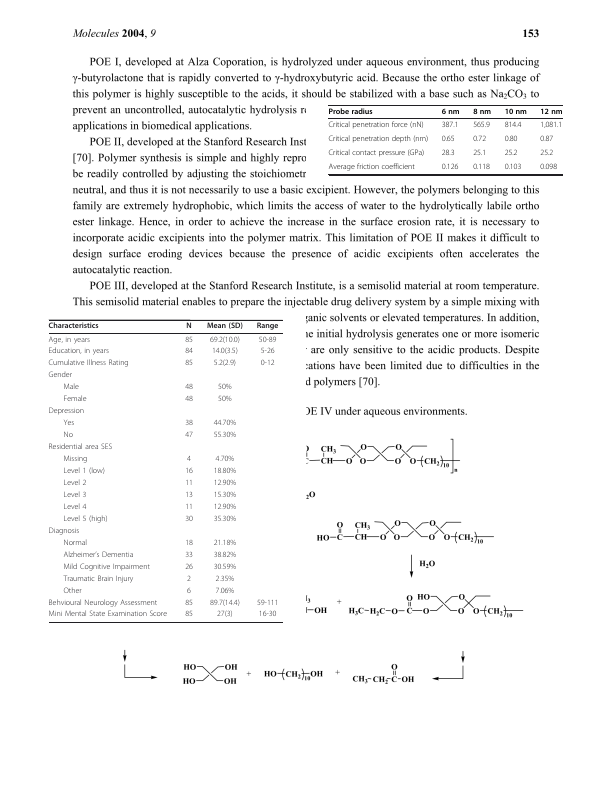borderless: (48, 318, 283, 622), (327, 104, 562, 174)
cell: (48, 610, 168, 620), (48, 598, 158, 608), (328, 135, 429, 144), (62, 562, 151, 572), (328, 149, 425, 158), (328, 121, 424, 130), (48, 359, 130, 369), (328, 163, 416, 172), (62, 550, 134, 560), (62, 574, 134, 584), (48, 347, 110, 357), (48, 443, 113, 452), (48, 322, 99, 331), (48, 335, 91, 345), (62, 515, 109, 524), (62, 467, 106, 476), (328, 108, 374, 116), (206, 322, 244, 331), (48, 407, 85, 416), (209, 335, 241, 345), (209, 598, 241, 608), (48, 527, 80, 536), (211, 347, 239, 357), (62, 538, 88, 548), (48, 371, 73, 381), (213, 359, 237, 369), (213, 538, 237, 548), (213, 550, 237, 560), (213, 562, 237, 572), (62, 455, 88, 464), (256, 598, 279, 608), (62, 395, 87, 404), (62, 479, 87, 488), (62, 491, 87, 500), (62, 503, 87, 512), (213, 419, 237, 428), (213, 431, 237, 440), (213, 467, 237, 476), (213, 479, 237, 488), (213, 491, 237, 500), (213, 503, 237, 512), (213, 515, 237, 524), (539, 121, 563, 130), (214, 574, 235, 584), (62, 586, 83, 596), (214, 586, 235, 596), (256, 322, 279, 331), (504, 108, 528, 116), (539, 108, 563, 116), (258, 335, 277, 345), (258, 610, 277, 620), (214, 455, 235, 464), (62, 383, 80, 393), (216, 610, 234, 620), (472, 121, 491, 130), (472, 163, 491, 172), (539, 163, 558, 172), (441, 121, 459, 130), (504, 121, 522, 130), (441, 163, 459, 172), (504, 163, 522, 172), (472, 108, 492, 116), (441, 108, 460, 116), (260, 347, 275, 357), (260, 359, 275, 369), (217, 383, 232, 393), (217, 395, 232, 404), (472, 135, 487, 144), (539, 135, 554, 144), (472, 149, 487, 158), (539, 149, 554, 158), (441, 135, 455, 144), (504, 135, 518, 144), (441, 149, 455, 158), (504, 149, 518, 158), (62, 419, 75, 428), (62, 431, 74, 440), (184, 335, 194, 345), (184, 347, 194, 357), (184, 359, 194, 369), (184, 383, 194, 393), (184, 538, 194, 548), (184, 550, 194, 560), (184, 562, 194, 572), (184, 598, 194, 608), (184, 610, 194, 620), (184, 395, 194, 404), (184, 419, 194, 428), (184, 431, 194, 440), (184, 467, 194, 476), (184, 479, 194, 488), (184, 491, 194, 500), (184, 503, 194, 512), (184, 515, 194, 524), (185, 322, 193, 331), (186, 574, 192, 584), (186, 586, 192, 596), (186, 455, 192, 464)
